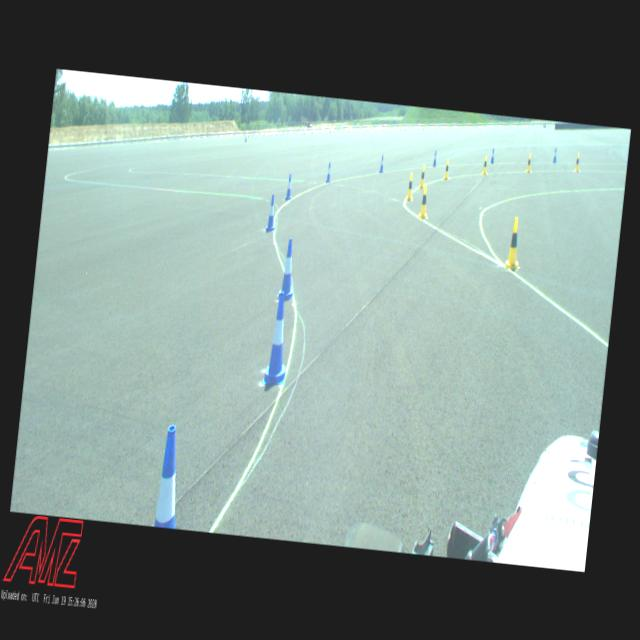blue_cone: (154, 424, 186, 528), (262, 290, 294, 386), (278, 238, 298, 300), (266, 194, 278, 232), (284, 173, 293, 200), (325, 162, 332, 182), (378, 154, 384, 172), (552, 146, 558, 162), (432, 150, 437, 167), (490, 148, 494, 162)
yellow_cone: (504, 217, 524, 270), (418, 184, 430, 218), (406, 172, 414, 200), (418, 164, 426, 188), (443, 158, 450, 180), (574, 152, 580, 172), (526, 153, 532, 172), (482, 156, 488, 173)
